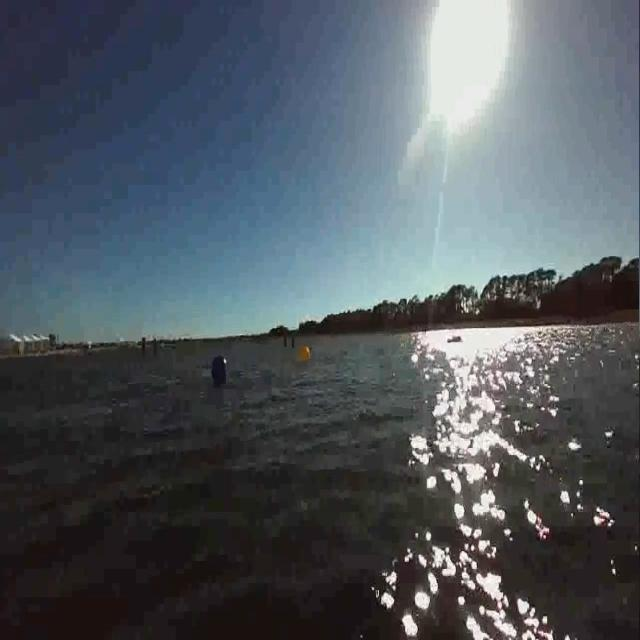blue-buoy: (210, 352, 228, 385)
yellow-buoy: (300, 343, 313, 363)
